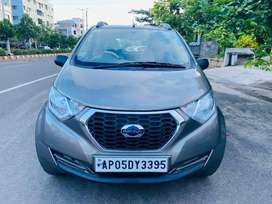AP05DY3395: (94, 157, 167, 172)
